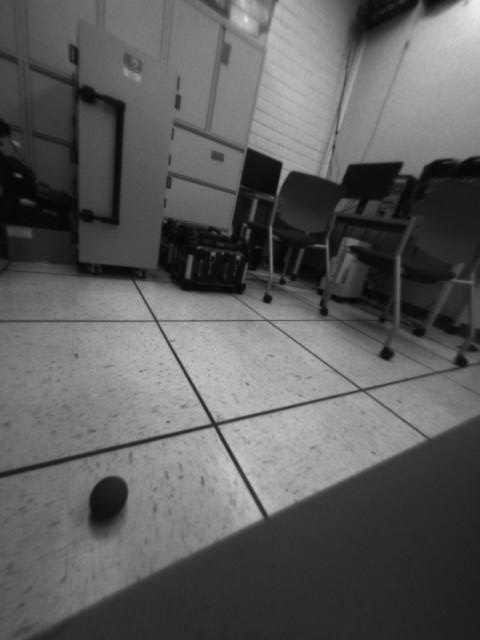dogtoy: (82, 464, 140, 527)
